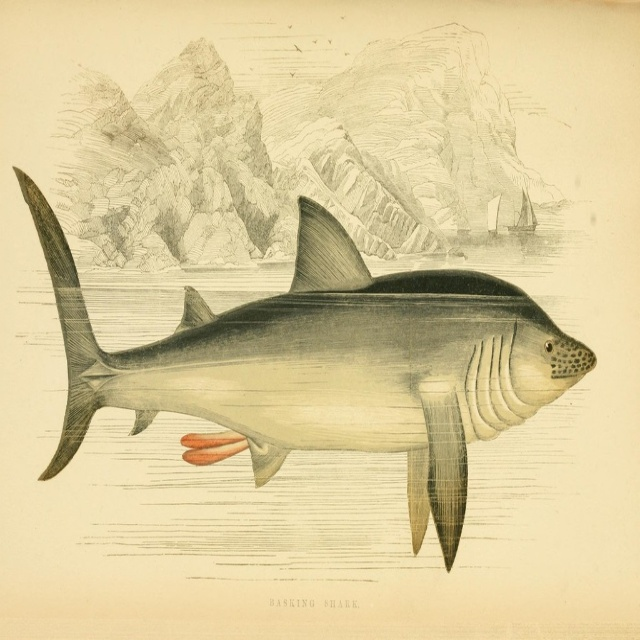Shark: (13, 161, 594, 570)
